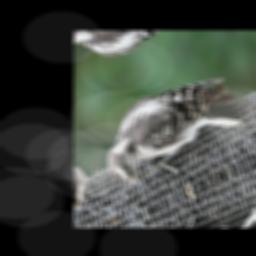Woodpecker: (92, 58, 255, 204)
